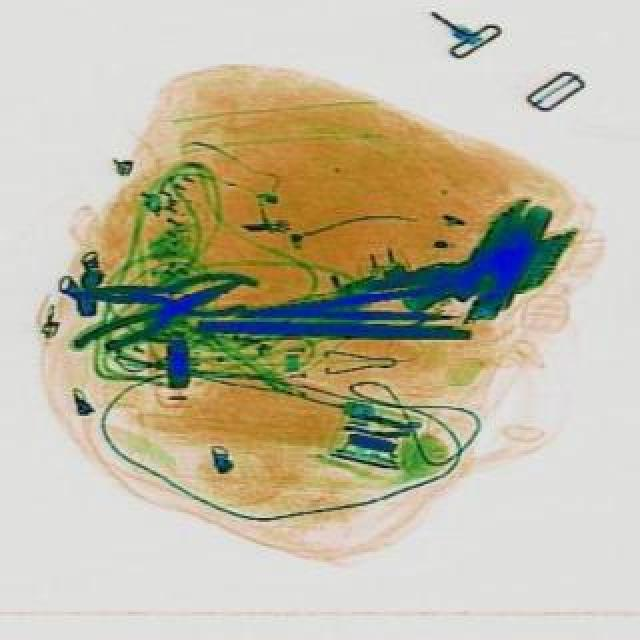wrench: (76, 270, 248, 366), (80, 270, 264, 322)
